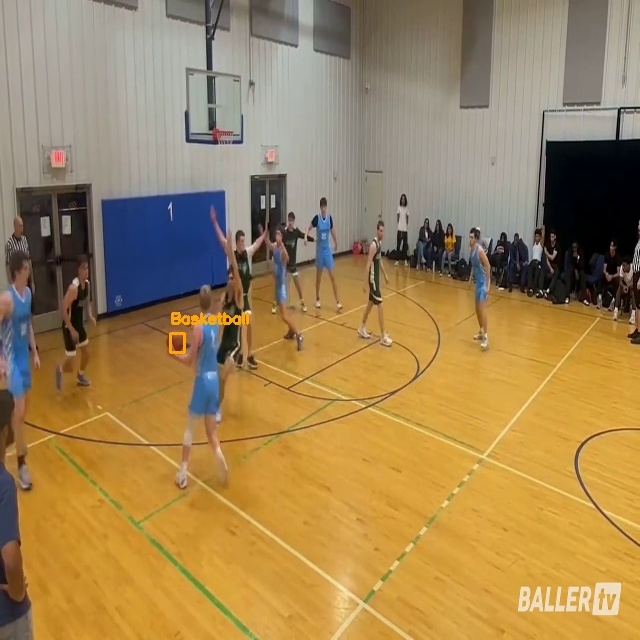Basketball: (170, 333, 184, 352)
